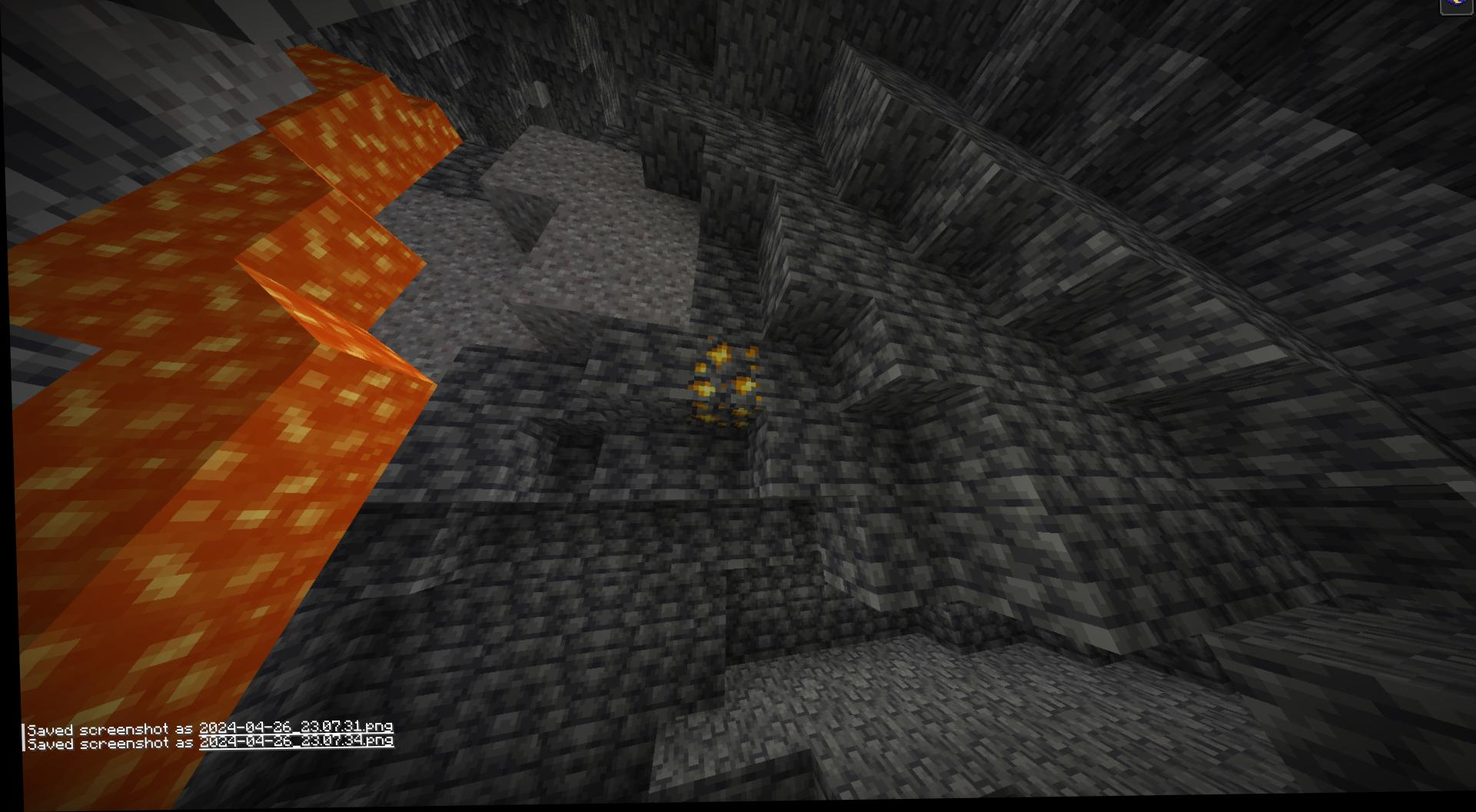gold ore: (687, 337, 760, 420)
